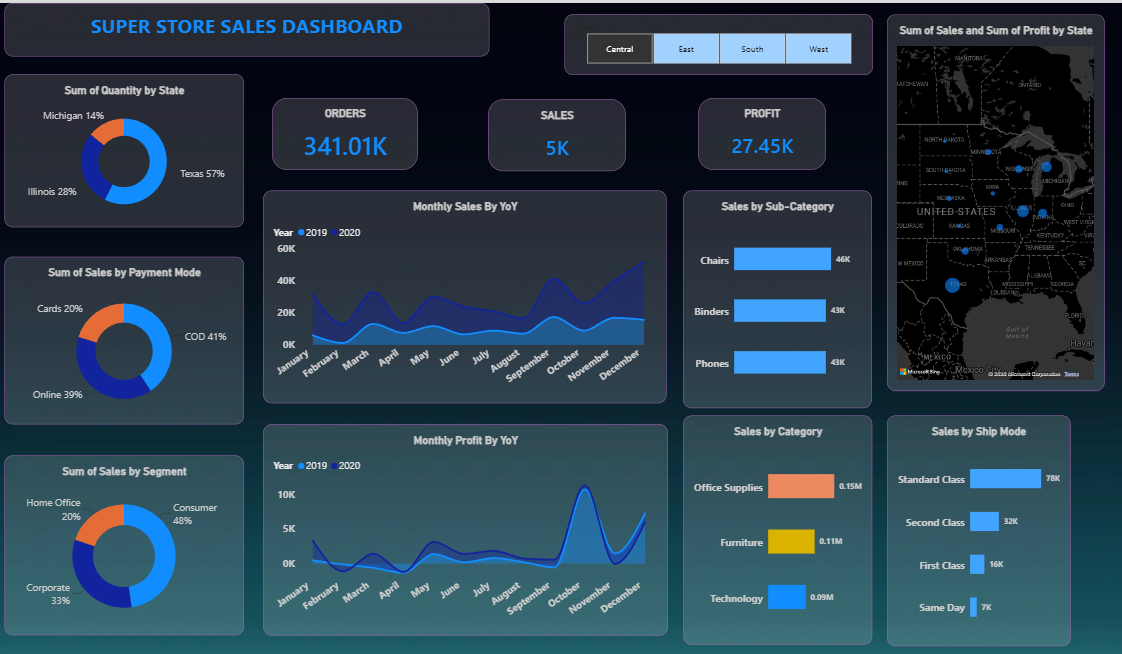

Layout of this report page (visuals, bound fields, positions):
{"tool":"powerbi","page":{"name":"Page 1","canvas":[1920,1080],"ordinal":0},"visuals":[{"type":"clusteredBarChart","title":" Sales by Category","fields":{"Category":["SuperStore_Sales_Dataset.Category"],"Y":["Sum(SuperStore_Sales_Dataset.Sales)"]},"box":[1138,680,311.4,377.9],"z":0},{"type":"clusteredBarChart","title":" Sales by Sub-Category","fields":{"Category":["SuperStore_Sales_Dataset.Sub-Category"],"Y":["Sum(SuperStore_Sales_Dataset.Sales)"]},"box":[1138,308,310,358],"z":1000},{"type":"clusteredBarChart","title":" Sales by Ship Mode","fields":{"Category":["SuperStore_Sales_Dataset.Ship Mode"],"Y":["Sum(SuperStore_Sales_Dataset.Sales)"]},"box":[1474,680,302,380],"z":2000},{"type":"stackedAreaChart","title":"Monthly Sales By YoY","fields":{"Category":["SuperStore_Sales_Dataset.Order Date.Variation.Date Hierarchy.Month","SuperStore_Sales_Dataset.Order Date.Variation.Date Hierarchy.Day"],"Series":["SuperStore_Sales_Dataset.Order Date.Variation.Date Hierarchy.Year"],"Y":["Sum(SuperStore_Sales_Dataset.Sales)"]},"box":[446,308,664,350],"z":3000},{"type":"stackedAreaChart","title":"Monthly Profit By YoY","fields":{"Category":["SuperStore_Sales_Dataset.Order Date.Variation.Date Hierarchy.Month","SuperStore_Sales_Dataset.Order Date.Variation.Date Hierarchy.Day"],"Series":["SuperStore_Sales_Dataset.Order Date.Variation.Date Hierarchy.Year"],"Y":["Sum(SuperStore_Sales_Dataset.Profit)"]},"box":[446,694,666,348],"z":4000},{"type":"map","fields":{"Category":["SuperStore_Sales_Dataset.State"],"Size":["Sum(SuperStore_Sales_Dataset.Sales)"]},"box":[1474,18,358,620],"z":5000},{"type":"donutChart","fields":{"Category":["SuperStore_Sales_Dataset.Segment"],"Y":["Sum(SuperStore_Sales_Dataset.Sales)"]},"box":[20,746,394,296],"z":6000},{"type":"donutChart","fields":{"Category":["SuperStore_Sales_Dataset.Payment Mode"],"Y":["Sum(SuperStore_Sales_Dataset.Sales)"]},"box":[20,418,394,276],"z":7000},{"type":"slicer","fields":{"Values":["SuperStore_Sales_Dataset.Region"]},"box":[942,18,508,100],"z":8000},{"type":"textbox","box":[20,0,798,88],"z":9000},{"type":"cardVisual","title":"ORDERS","fields":{"Data":["Sum(SuperStore_Sales_Dataset.Sales)"]},"box":[462,156,240,118],"z":10000},{"type":"cardVisual","title":"SALES","fields":{"Data":["Sum(SuperStore_Sales_Dataset.Quantity)"]},"box":[818,158,226,118],"z":10001},{"type":"cardVisual","title":"PROFIT","fields":{"Data":["Sum(SuperStore_Sales_Dataset.Profit)"]},"box":[1162,156,210,118],"z":10002},{"type":"donutChart","fields":{"Category":["SuperStore_Sales_Dataset.State"],"Y":["Sum(SuperStore_Sales_Dataset.Quantity)"]},"box":[20,118,394,252],"z":10003}]}

Visuals, with their boxes on the page's 1920x1080 design canvas (x1, y1, x2, y2). These are canvas units, not pixel positions in the 1122x654 screenshot, which may show the page scaled, cropped or inside an application window:
" Sales by Category" clusteredBarChart: crop(1138, 680, 1449, 1058)
" Sales by Sub-Category" clusteredBarChart: crop(1138, 308, 1448, 666)
" Sales by Ship Mode" clusteredBarChart: crop(1474, 680, 1776, 1060)
"Monthly Sales By YoY" stackedAreaChart: crop(446, 308, 1110, 658)
"Monthly Profit By YoY" stackedAreaChart: crop(446, 694, 1112, 1042)
map - SuperStore_Sales_Dataset.State x Sum(SuperStore_Sales_Dataset.Sales): crop(1474, 18, 1832, 638)
donutChart - SuperStore_Sales_Dataset.Segment x Sum(SuperStore_Sales_Dataset.Sales): crop(20, 746, 414, 1042)
donutChart - SuperStore_Sales_Dataset.Payment Mode x Sum(SuperStore_Sales_Dataset.Sales): crop(20, 418, 414, 694)
slicer - SuperStore_Sales_Dataset.Region: crop(942, 18, 1450, 118)
textbox: crop(20, 0, 818, 88)
"ORDERS" cardVisual: crop(462, 156, 702, 274)
"SALES" cardVisual: crop(818, 158, 1044, 276)
"PROFIT" cardVisual: crop(1162, 156, 1372, 274)
donutChart - SuperStore_Sales_Dataset.State x Sum(SuperStore_Sales_Dataset.Quantity): crop(20, 118, 414, 370)
